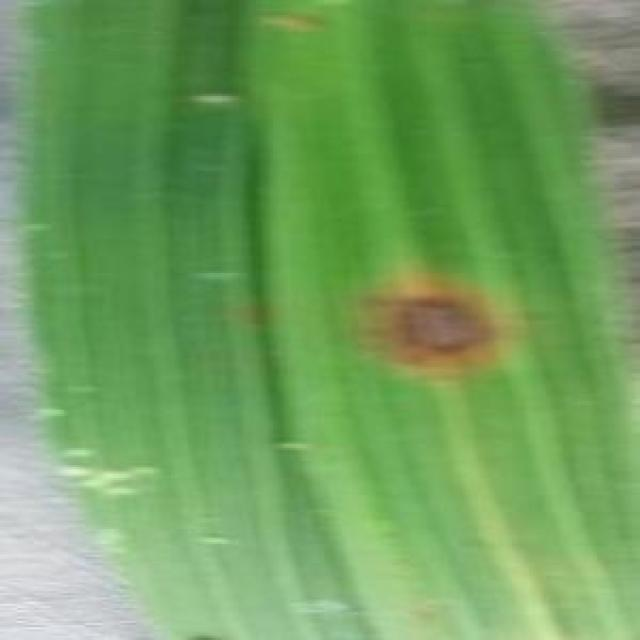Brown_Spot: (348, 270, 530, 390), (260, 15, 332, 39)
